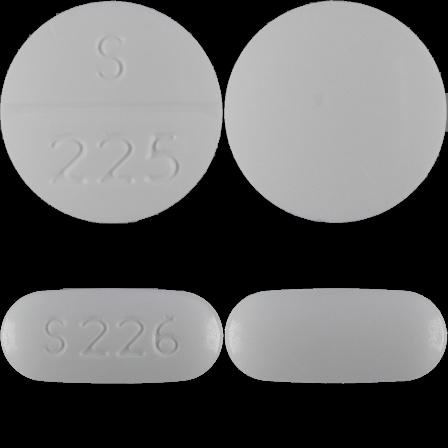61919-147: (0, 0, 224, 224)
